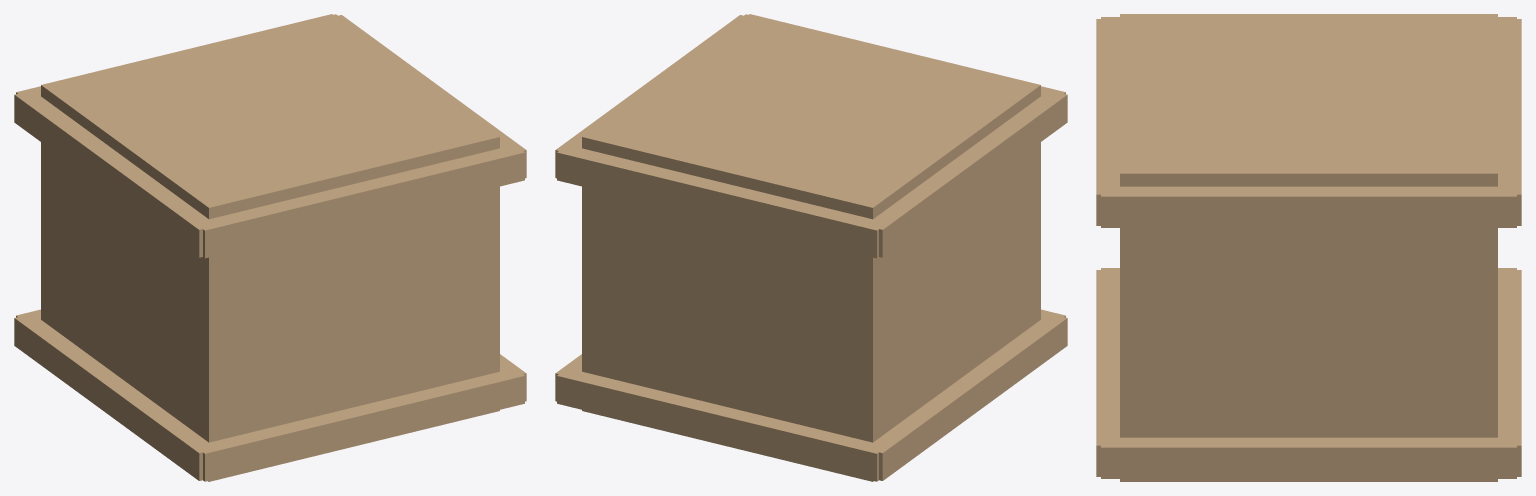
Rendered from wooden_crate.glb.
3 renders of one model, left to right at view 1: azimuth 30°, elevation 25°; view 2: azimuth 150°, elevation 25°; view 3: azimuth 270°, elevation 25°, orthographic. The views are drawn at different scales.
Parts seen in each view (by area): view 1: wooden_crate_0; view 2: wooden_crate_0; view 3: wooden_crate_0.
Part boxes in pixels (x1,y1,x2,y2): wooden_crate_0: [14, 14, 526, 481]; wooden_crate_0: [555, 14, 1067, 481]; wooden_crate_0: [1096, 14, 1521, 481].
Size of the model in its own units: 0.675 by 0.54 by 0.675.
